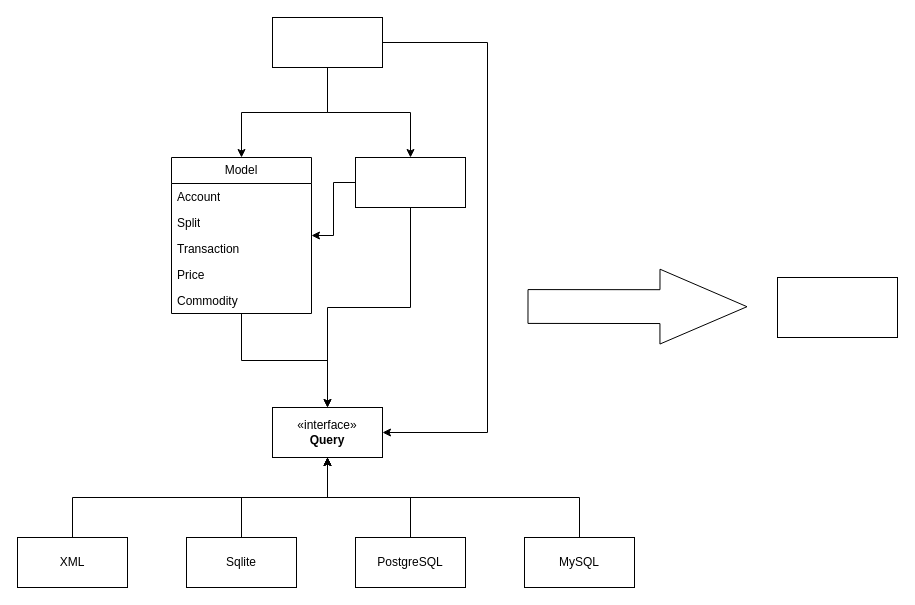
This 915x605 diagram has some shape labels left out. Each missing label, with the box of its shape:
Book: (272, 16, 382, 68)
error: (776, 276, 898, 338)
Exchange: (354, 156, 466, 208)
